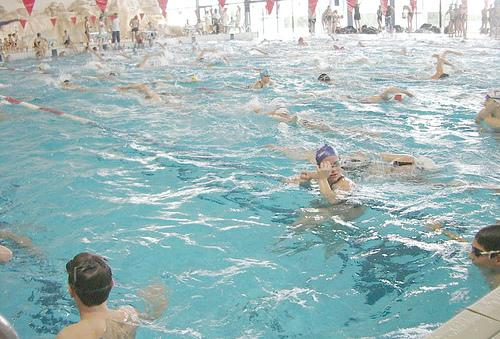swimmer: (52, 247, 152, 338), (301, 141, 349, 201), (470, 219, 500, 287), (420, 49, 458, 82), (475, 88, 500, 137), (360, 88, 415, 106), (256, 69, 272, 90)
